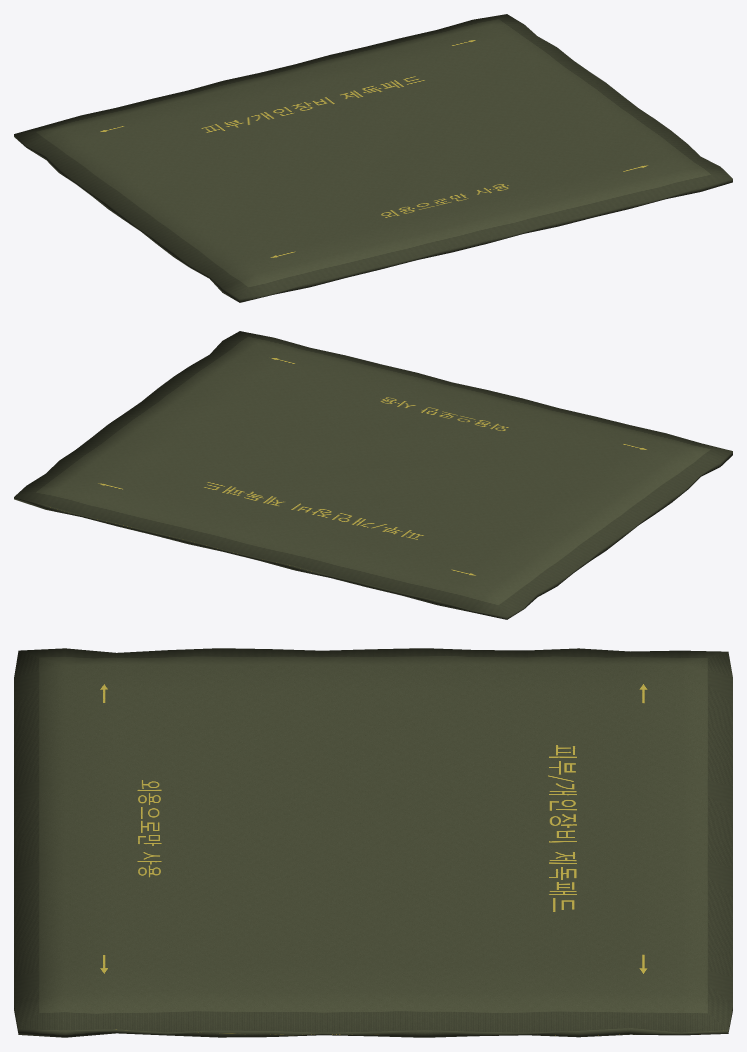
Rendered from KD1_Packet.fbx.
3 views of the same model, one above another, from view 1: azimuth 30°, elevation 25°; view 2: azimuth 150°, elevation 25°; view 3: azimuth 270°, elevation 25° (orthographic). The views are drawn at different scales.
Parts seen in each view (by area): view 1: Part_Packet_Sealed; view 2: Part_Packet_Sealed; view 3: Part_Packet_Sealed.
Part boxes in pixels (x1,y1,x2,y2): Part_Packet_Sealed: (14, 14, 732, 302); Part_Packet_Sealed: (14, 331, 732, 619); Part_Packet_Sealed: (14, 648, 732, 1037).
Bounding box in the file's own units: 0.176 × 0.00647 × 0.14.
1 material, 1 textured.
